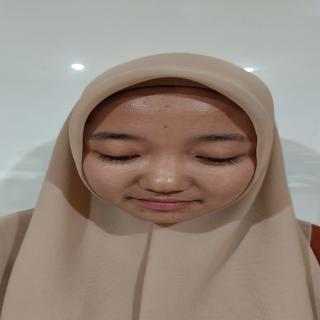Sedih: (80, 80, 272, 230)
